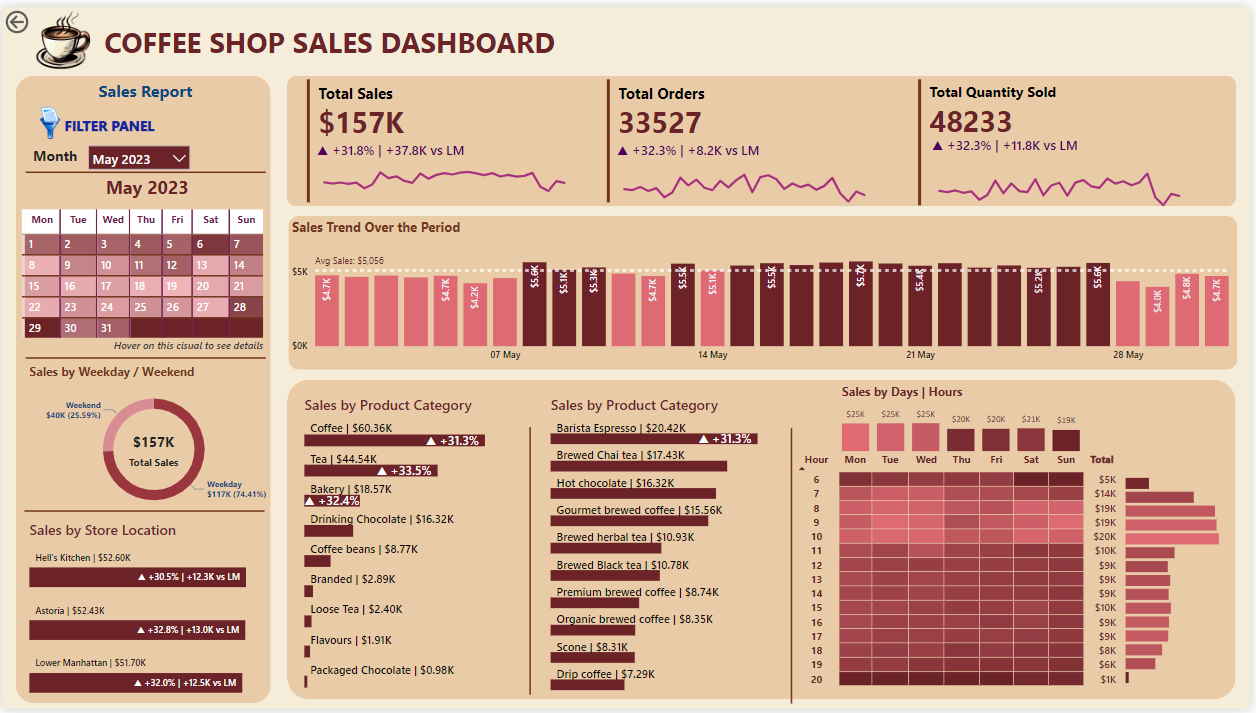

The dashboard page shown, as its layout file describes it:
{"tool":"powerbi","page":{"name":"Page 1","canvas":[1664,936],"ordinal":0},"visuals":[{"type":"shape","box":[379.5,497.2,1265.7,437.6],"z":0},{"type":"shape","box":[18.8,91,340.3,845.4],"z":1000},{"type":"shape","box":[379.5,91,1265.7,174.1],"z":2000},{"type":"textbox","box":[117.6,17.3,636.8,59.6],"z":3000},{"type":"cardVisual","fields":{"Data":["Transactions.Total Sales"]},"box":[401.5,91,380,174.1],"z":4000,"group":"g1"},{"type":"cardVisual","fields":{"Data":["Transactions.Total Orders"]},"box":[801.4,91,381,174.1],"z":4000,"group":"g4"},{"type":"cardVisual","fields":{"Data":["Transactions.Total Quantity Sold"]},"box":[1217.1,91,400,178],"z":4000,"group":"g5"},{"type":"slicer","fields":{"Values":["Date Table.Month Year"]},"box":[109.8,180.4,145.9,45.5],"z":4000},{"type":"group","id":"g1","title":"Group 1","box":[401.5,91,380,174.1],"z":5000},{"type":"lineChart","fields":{"Category":["Date Table.Date Hierarchy.Date"],"Y":["Transactions.Total Quantity Sold"]},"box":[1235.9,170.4,350,104.1],"z":5001,"group":"g5"},{"type":"lineChart","fields":{"Category":["Date Table.Date Hierarchy.Date"],"Y":["Transactions.Total Sales"]},"box":[415.2,177.3,350,87.8],"z":5001,"group":"g1"},{"type":"lineChart","fields":{"Category":["Date Table.Date Hierarchy.Date"],"Y":["Transactions.Total Orders"]},"box":[815.1,177.3,350,87.8],"z":5001,"group":"g4"},{"type":"group","id":"g2","title":"Group 1","box":[801.4,91,381,174.1],"z":6000},{"type":"group","id":"g3","title":"Group 1","box":[1217.1,91,400,183.5],"z":7000},{"type":"group","id":"g4","title":"Group 2","box":[801.4,91,381,174.1],"z":7001,"group":"g2"},{"type":"group","id":"g5","title":"Group 3","box":[1217.1,91,400,183.5],"z":7001,"group":"g3"},{"type":"pivotTable","fields":{"Rows":["Date Table.Week Number"],"Columns":["Date Table.Day Name"],"Values":["Min(Date Table.Day Number)"]},"box":[22,265.1,334.1,183.5],"z":8000},{"type":"card","fields":{"Values":["Min(Date Table.Month Year)"]},"box":[94.1,216.4,200.8,48.6],"z":9000},{"type":"card","fields":{"Values":["Transactions.Foot Note"]},"box":[138,440.7,221.1,28.2],"z":10000},{"type":"shape","box":[31.4,200.8,319.9,40.8],"z":11000},{"type":"donutChart","title":"Sales by Weekday / Weekend","fields":{"Category":["Date Table.Weekday / Weekend"],"Y":["Transactions.Total Sales"]},"box":[31.4,475.2,341.9,208.6],"z":12000},{"type":"card","fields":{"Values":["Transactions.Total Sales"]},"box":[130.2,519.1,144.3,142.7],"z":13000},{"type":"shape","box":[31.4,448.6,319.9,39.2],"z":14000},{"type":"shape","box":[29.8,650.9,319.9,40.8],"z":15000},{"type":"clusteredBarChart","title":"Sales by Store Location","fields":{"Category":["Transactions.store_location"],"Y":["Transactions.Placeholder","Transactions.Total Sales"]},"box":[31.4,683.8,327.8,240],"z":16000},{"type":"shape","box":[381.1,277.6,1265.7,205.5],"z":17000},{"type":"columnChart","title":"Sales Trend Over the Period","fields":{"Category":["Transactions.transaction_date"],"Y":["Transactions.Total Sales"]},"box":[381.1,282.3,1264.1,200.8],"z":18000},{"type":"shape","box":[701.1,559.9,45.5,370.1],"z":19000},{"type":"clusteredBarChart","title":"Sales by Product Category","fields":{"Y":["Transactions.Placeholder","Transactions.Total Sales"],"Category":["Transactions.product_category"]},"box":[398.4,517,283.9,407.8],"z":20000,"group":"g7"},{"type":"shape","box":[1028.9,561.5,48.6,367],"z":20000},{"type":"actionButton","box":[0,0,100,40],"z":21000},{"type":"textbox","box":[31.4,180.4,78.4,43.9],"z":22000},{"type":"clusteredBarChart","title":"Sales by Product Category","fields":{"Y":["Transactions.Placeholder","Transactions.Total Sales"],"Category":["Transactions.product_type"]},"box":[735.6,517,307.4,418.8],"z":22000,"group":"g7"},{"type":"textbox","box":[117.6,91,145.9,43.9],"z":23000},{"type":"textbox","box":[64.3,139.6,156.8,43.9],"z":24000},{"type":"pivotTable","fields":{"Rows":["Transactions.Hour"],"Columns":["Date Table.Day Name"],"Values":["Transactions.Total Sales"]},"box":[1050.4,611.1,451.7,323.1],"z":24000,"group":"g7"},{"type":"group","id":"g6","title":"Group 5","box":[398.4,501.9,1233.7,433.9],"z":25000},{"type":"image","box":[22,0,120.8,87.8],"z":26000},{"type":"barChart","fields":{"Category":["Transactions.Hour"],"Y":["Transactions.Total Sales"]},"box":[1495.7,627.6,136.4,305.8],"z":26000,"group":"g6"},{"type":"image","box":[32.9,125.5,61.2,58],"z":27000},{"type":"columnChart","title":"Sales by Days | Hours","fields":{"Y":["Transactions.Total Sales"],"Category":["Date Table.Day Name"]},"box":[1115.1,501.9,327.8,111.4],"z":27000,"group":"g7"},{"type":"group","id":"g7","title":"Group 4","box":[398.4,501.9,1103.7,433.9],"z":27004,"group":"g6"}]}

Visuals, with their boxes in screenshot pixels (x1, y1, x2, y2), scaled from the page's 1664x936 canvas onto the 1256x713 screenshot:
shape: locate(286, 379, 1242, 712)
shape: locate(14, 69, 271, 712)
shape: locate(286, 69, 1242, 202)
textbox: locate(89, 13, 569, 59)
cardVisual - Transactions.Total Sales: locate(303, 69, 590, 202)
cardVisual - Transactions.Total Orders: locate(605, 69, 892, 202)
cardVisual - Transactions.Total Quantity Sold: locate(919, 69, 1221, 205)
slicer - Date Table.Month Year: locate(83, 137, 193, 172)
"Group 1" group: locate(303, 69, 590, 202)
lineChart - Date Table.Date Hierarchy.Date x Transactions.Total Quantity Sold: locate(933, 130, 1197, 209)
lineChart - Date Table.Date Hierarchy.Date x Transactions.Total Sales: locate(313, 135, 578, 202)
lineChart - Date Table.Date Hierarchy.Date x Transactions.Total Orders: locate(615, 135, 879, 202)
"Group 1" group: locate(605, 69, 892, 202)
"Group 1" group: locate(919, 69, 1221, 209)
"Group 2" group: locate(605, 69, 892, 202)
"Group 3" group: locate(919, 69, 1221, 209)
pivotTable - Date Table.Week Number x Date Table.Day Name: locate(17, 202, 269, 342)
card - Min(Date Table.Month Year): locate(71, 165, 223, 202)
card - Transactions.Foot Note: locate(104, 336, 271, 357)
shape: locate(24, 153, 265, 184)
"Sales by Weekday / Weekend" donutChart: locate(24, 362, 282, 521)
card - Transactions.Total Sales: locate(98, 395, 207, 504)
shape: locate(24, 342, 265, 372)
shape: locate(22, 496, 264, 527)
"Sales by Store Location" clusteredBarChart: locate(24, 521, 271, 704)
shape: locate(288, 211, 1243, 368)
"Sales Trend Over the Period" columnChart: locate(288, 215, 1242, 368)
shape: locate(529, 427, 564, 708)
"Sales by Product Category" clusteredBarChart: locate(301, 394, 515, 704)
shape: locate(777, 428, 813, 707)
actionButton: locate(0, 0, 75, 30)
textbox: locate(24, 137, 83, 171)
"Sales by Product Category" clusteredBarChart: locate(555, 394, 787, 712)
textbox: locate(89, 69, 199, 103)
textbox: locate(49, 106, 167, 140)
pivotTable - Transactions.Hour x Date Table.Day Name: locate(793, 466, 1134, 712)
"Group 5" group: locate(301, 382, 1232, 712)
image: locate(17, 0, 108, 67)
barChart - Transactions.Hour x Transactions.Total Sales: locate(1129, 478, 1232, 711)
image: locate(25, 96, 71, 140)
"Sales by Days | Hours" columnChart: locate(842, 382, 1089, 467)
"Group 4" group: locate(301, 382, 1134, 712)
